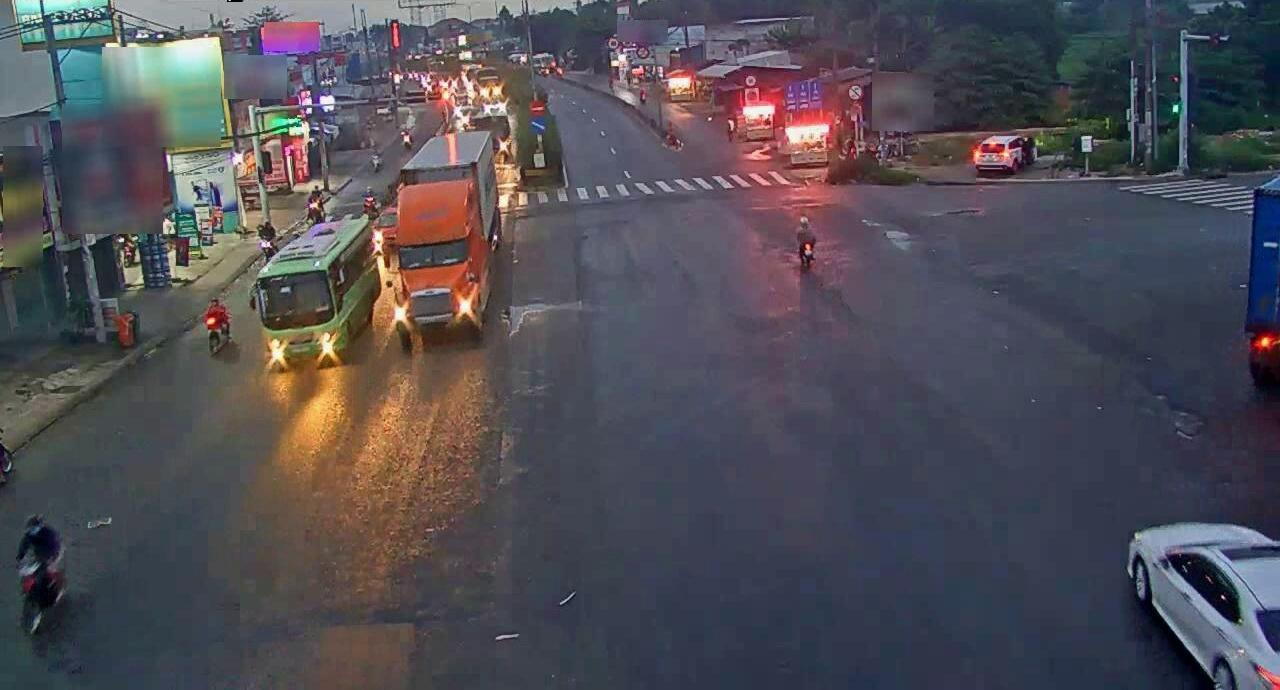xe buyt: (262, 223, 374, 362)
xe container: (395, 143, 489, 325)
xe may: (15, 514, 70, 631), (790, 210, 821, 277)
